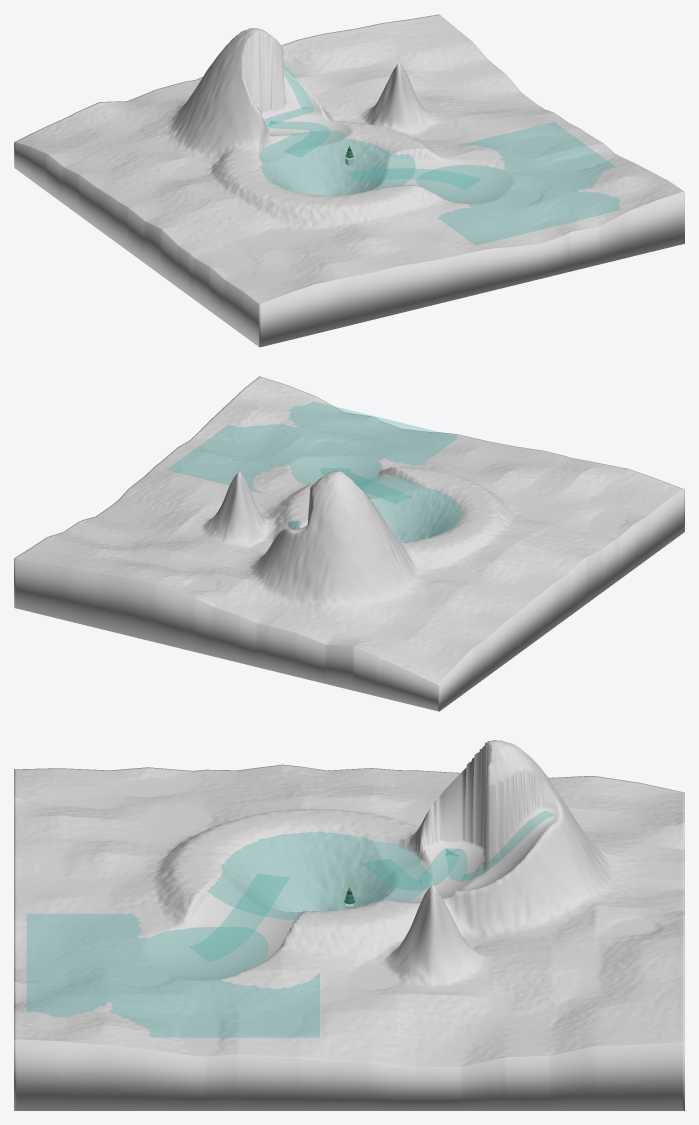
The model's file is volcanic_marsh_diorama.glb.
3 views of the same model, one above another, from view 1: azimuth 30°, elevation 25°; view 2: azimuth 150°, elevation 25°; view 3: azimuth 270°, elevation 25° (orthographic). The views are drawn at different scales.
Parts seen in each view (by area): view 1: Diorama_Island_Block, Water_Bay_Marine, Water_Lake_Central, Water_River_Meander; view 2: Diorama_Island_Block, Water_Bay_Marine, Water_Lake_Central, Water_River_Meander; view 3: Diorama_Island_Block, Water_Bay_Marine, Water_Lake_Central, Water_River_Meander.
Part boxes in pixels (x1,y1,x2,y2): Diorama_Island_Block: (14,14,684,347); Water_Bay_Marine: (369,122,621,245); Water_Lake_Central: (259,131,415,195); Water_River_Meander: (264,66,481,189); Diorama_Island_Block: (14,376,684,711); Water_Bay_Marine: (167,401,458,493); Water_Lake_Central: (354,477,463,541); Water_River_Meander: (288,468,410,529); Diorama_Island_Block: (14,740,684,1110); Water_Bay_Marine: (27,914,319,1037); Water_Lake_Central: (208,831,432,920); Water_River_Meander: (189,810,554,961).
Bounding box in the file's own units: 160 × 52.68 × 160.
